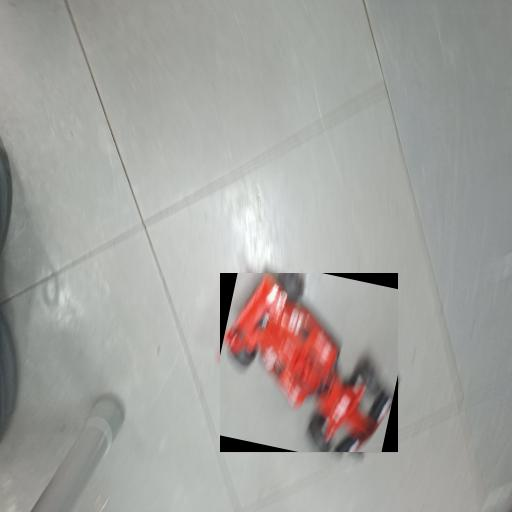carro: (221, 274, 398, 453)
